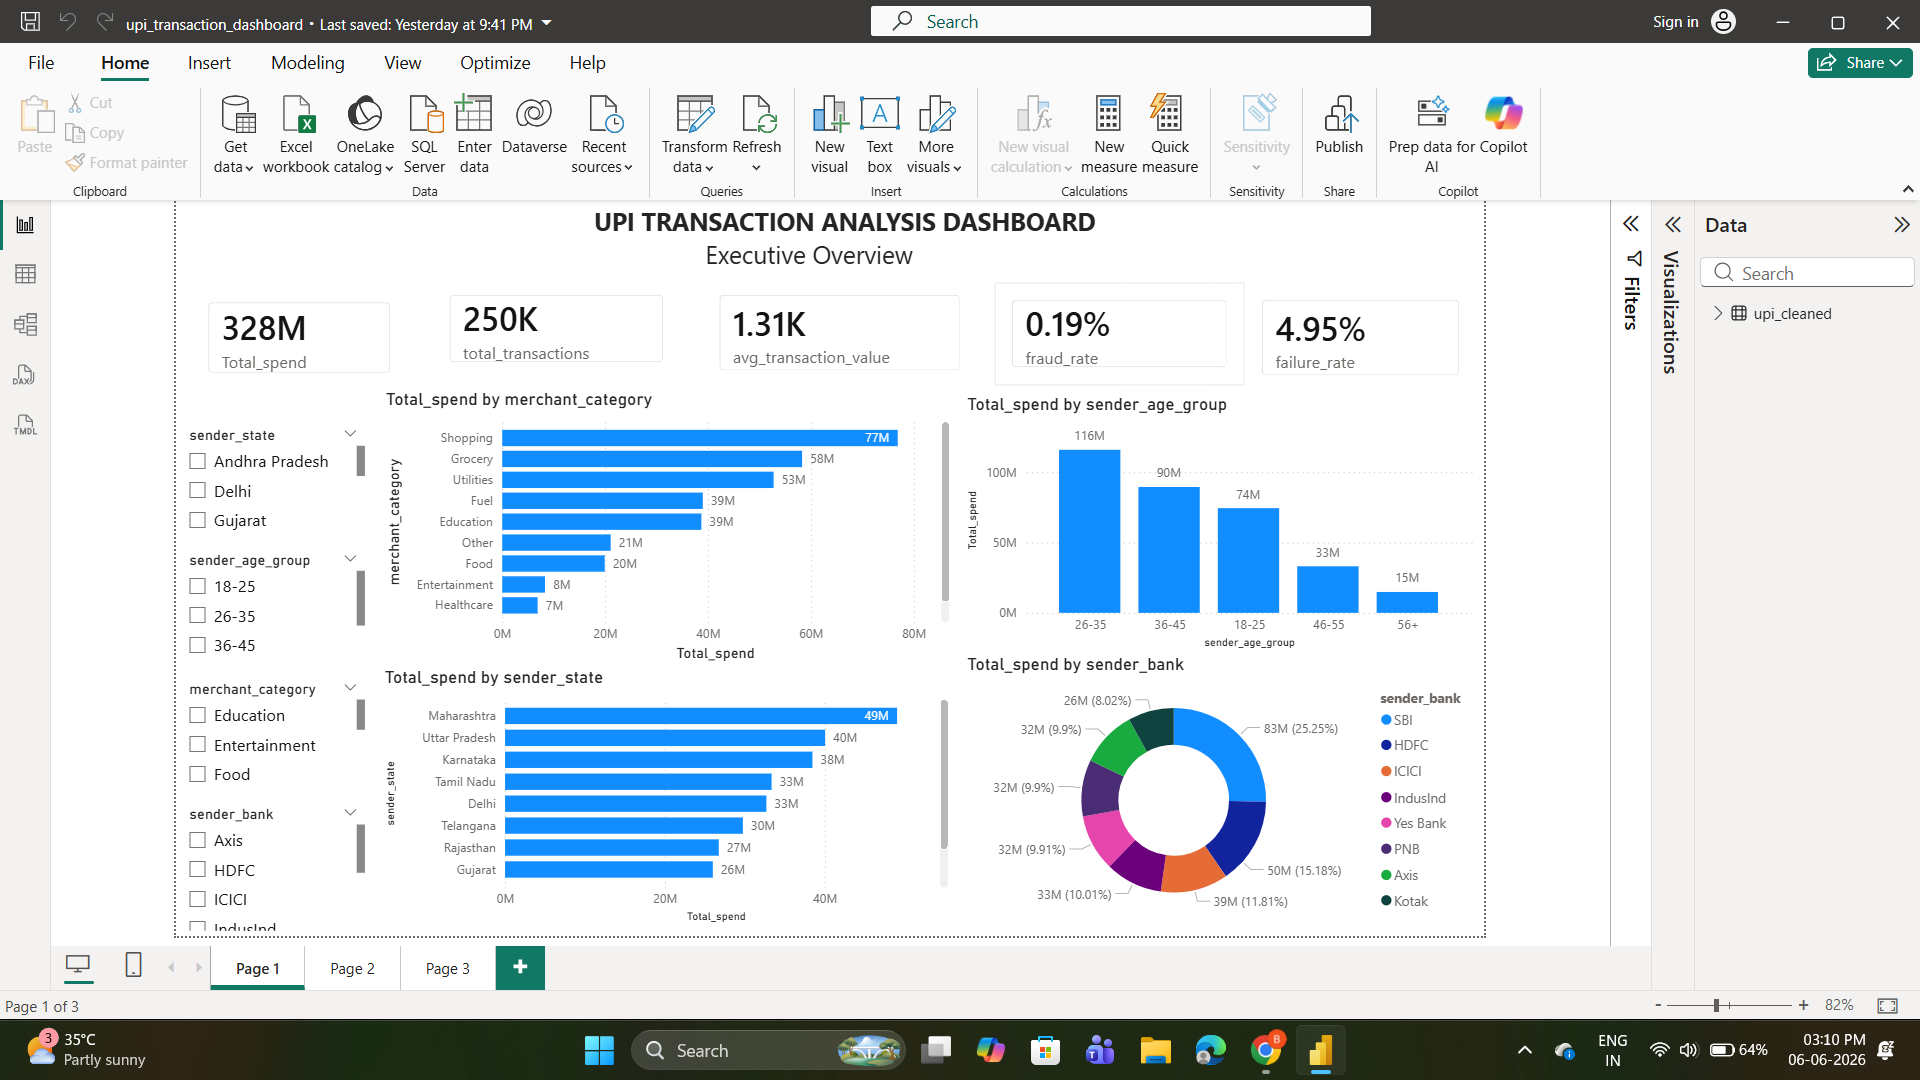

Layout of this report page (visuals, bound fields, positions):
{"tool":"powerbi","page":{"name":"Page 1","canvas":[1280,720],"ordinal":0},"visuals":[{"type":"cardVisual","fields":{"Data":["upi_cleaned.Total_spend"]},"box":[14.7,83.2,212.8,103.9],"z":0},{"type":"cardVisual","fields":{"Data":["upi_cleaned.total_transactions"]},"box":[250.7,75.8,243.3,100.3],"z":1},{"type":"cardVisual","fields":{"Data":["upi_cleaned.avg_transaction_value"]},"box":[514.8,75.8,269,108.8],"z":2},{"type":"cardVisual","fields":{"Data":["upi_cleaned.fraud_rate"]},"box":[801,80.7,244.6,100.3],"z":3},{"type":"cardVisual","fields":{"Data":["upi_cleaned.failure_rate"]},"box":[1045.5,80.7,227.4,108.8],"z":4},{"type":"clusteredBarChart","fields":{"Category":["upi_cleaned.merchant_category"],"Y":["upi_cleaned.Total_spend"]},"box":[200.5,184.6,561.3,271.5],"z":5},{"type":"clusteredColumnChart","fields":{"Category":["upi_cleaned.sender_age_group"],"Y":["upi_cleaned.Total_spend"]},"box":[769.2,189.5,503.8,254.3],"z":6},{"type":"clusteredBarChart","fields":{"Category":["upi_cleaned.sender_state"],"Y":["upi_cleaned.Total_spend"]},"box":[199.3,456.1,561.3,255.6],"z":7},{"type":"donutChart","fields":{"Category":["upi_cleaned.sender_bank"],"Y":["upi_cleaned.Total_spend"]},"box":[769.2,443.9,511.1,267.8],"z":8},{"type":"slicer","fields":{"Values":["upi_cleaned.sender_state"]},"box":[0,216.4,189.5,122.3],"z":9},{"type":"slicer","fields":{"Values":["upi_cleaned.sender_age_group"]},"box":[0,338.7,189.5,117.4],"z":10},{"type":"slicer","fields":{"Values":["upi_cleaned.merchant_category"]},"box":[0,464.7,189.5,122.3],"z":11},{"type":"slicer","fields":{"Values":["upi_cleaned.sender_bank"]},"box":[0,587,189.5,133.3],"z":12},{"type":"textbox","box":[0,0,1273,75.8],"z":13}]}

Visuals, with their boxes on the page's 1280x720 design canvas (x1, y1, x2, y2). These are canvas units, not pixel positions in the 1920x1080 screenshot, which may show the page scaled, cropped or inside an application window:
cardVisual - upi_cleaned.Total_spend: rect(15, 83, 228, 187)
cardVisual - upi_cleaned.total_transactions: rect(251, 76, 494, 176)
cardVisual - upi_cleaned.avg_transaction_value: rect(515, 76, 784, 185)
cardVisual - upi_cleaned.fraud_rate: rect(801, 81, 1046, 181)
cardVisual - upi_cleaned.failure_rate: rect(1046, 81, 1273, 190)
clusteredBarChart - upi_cleaned.merchant_category x upi_cleaned.Total_spend: rect(200, 185, 762, 456)
clusteredColumnChart - upi_cleaned.sender_age_group x upi_cleaned.Total_spend: rect(769, 190, 1273, 444)
clusteredBarChart - upi_cleaned.sender_state x upi_cleaned.Total_spend: rect(199, 456, 761, 712)
donutChart - upi_cleaned.sender_bank x upi_cleaned.Total_spend: rect(769, 444, 1280, 712)
slicer - upi_cleaned.sender_state: rect(0, 216, 190, 339)
slicer - upi_cleaned.sender_age_group: rect(0, 339, 190, 456)
slicer - upi_cleaned.merchant_category: rect(0, 465, 190, 587)
slicer - upi_cleaned.sender_bank: rect(0, 587, 190, 720)
textbox: rect(0, 0, 1273, 76)
